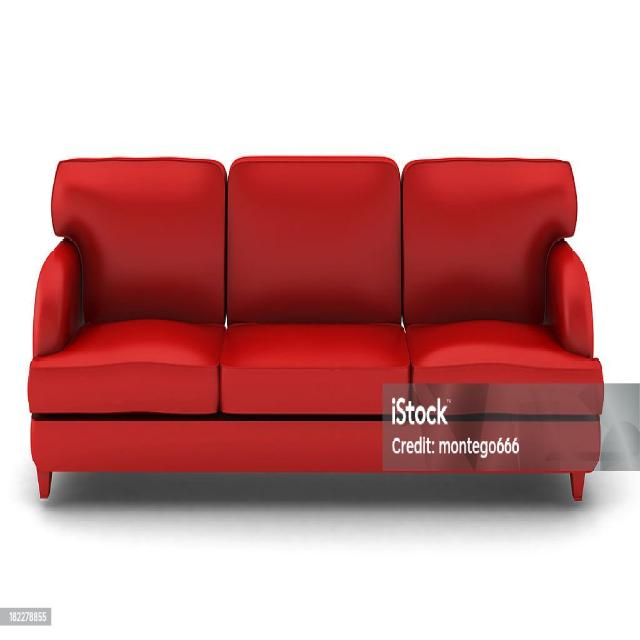back_cushion: (52, 157, 576, 324)
base: (31, 414, 409, 497), (440, 418, 599, 478)
left_arm: (548, 241, 593, 357)
legs: (37, 468, 52, 497), (570, 472, 584, 499)
right_arm: (34, 240, 81, 357)
seat_cushion: (28, 320, 602, 421)
stallion-sofa1: (0, 0, 639, 639)
